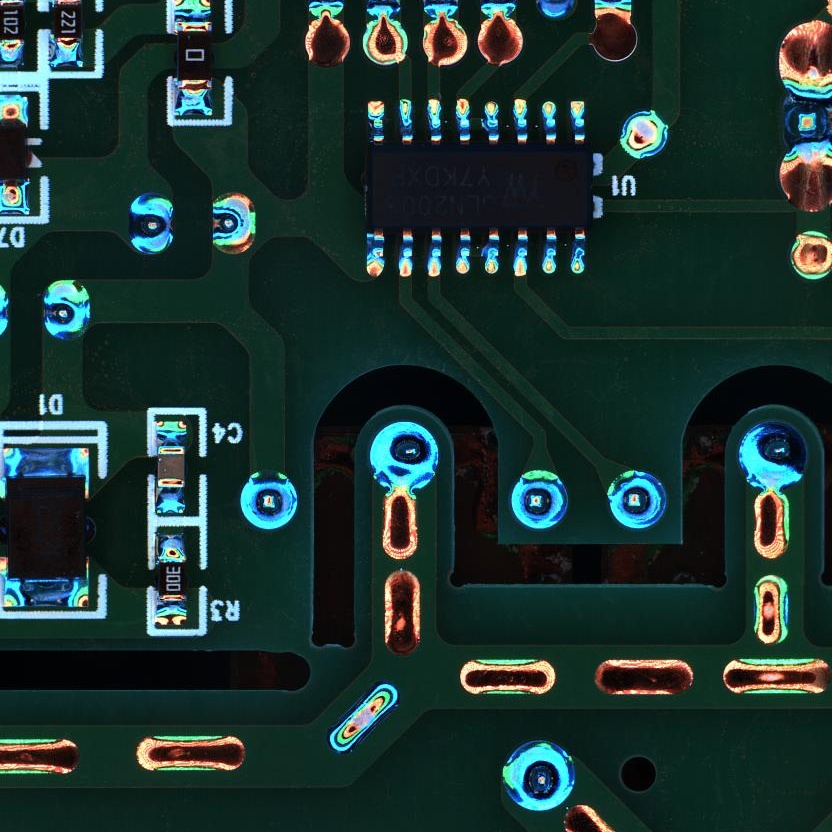spot: (501, 739, 577, 815), (366, 420, 442, 494), (735, 421, 809, 496), (774, 82, 832, 162), (604, 467, 669, 534), (237, 470, 300, 532), (509, 468, 568, 532), (39, 277, 93, 340), (126, 191, 175, 258), (209, 190, 255, 256), (617, 108, 670, 158)
